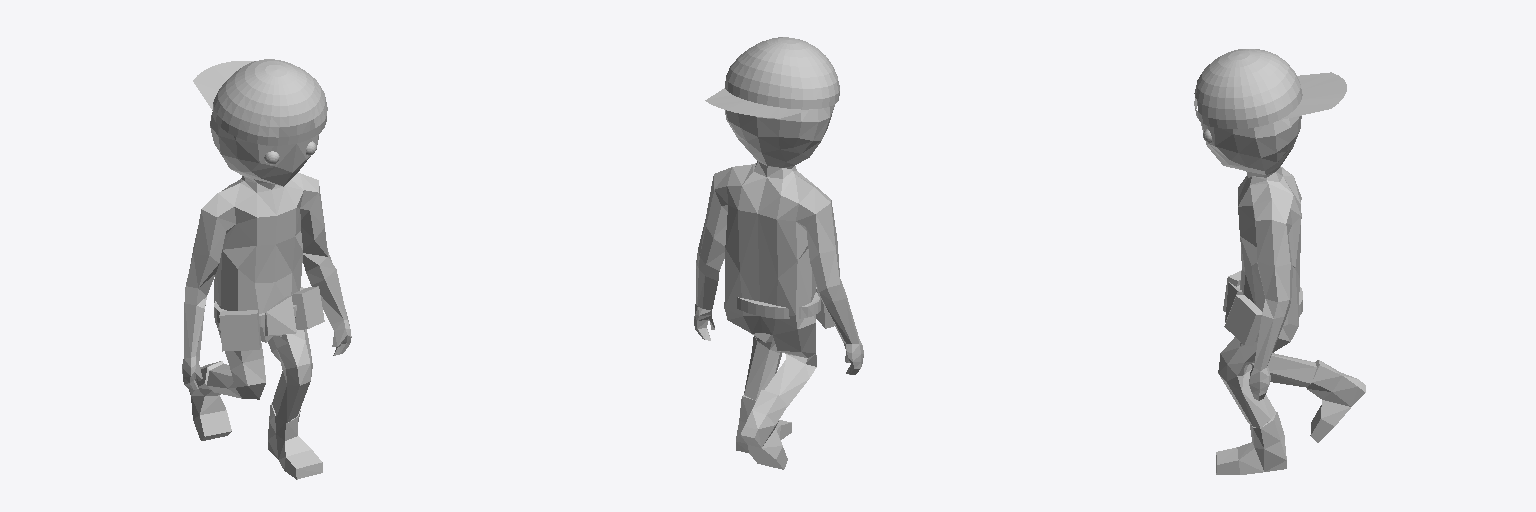
Rendered from Main_Character_TireRepair_24.obj.
3 renders of one model, left to right at view 1: azimuth 30°, elevation 25°; view 2: azimuth 150°, elevation 25°; view 3: azimuth 270°, elevation 25°, orthographic.
Visible parts, largest first — view 1: Main_Character_Test.003_Main_Character_Test.004; view 2: Main_Character_Test.003_Main_Character_Test.004; view 3: Main_Character_Test.003_Main_Character_Test.004.
Part boxes in pixels (bbox=[...]): Main_Character_Test.003_Main_Character_Test.004: bbox=[182, 59, 351, 479]; Main_Character_Test.003_Main_Character_Test.004: bbox=[694, 37, 863, 469]; Main_Character_Test.003_Main_Character_Test.004: bbox=[1194, 49, 1365, 474].
Bounding box in the file's own units: 1.63 × 3.79 × 1.46.